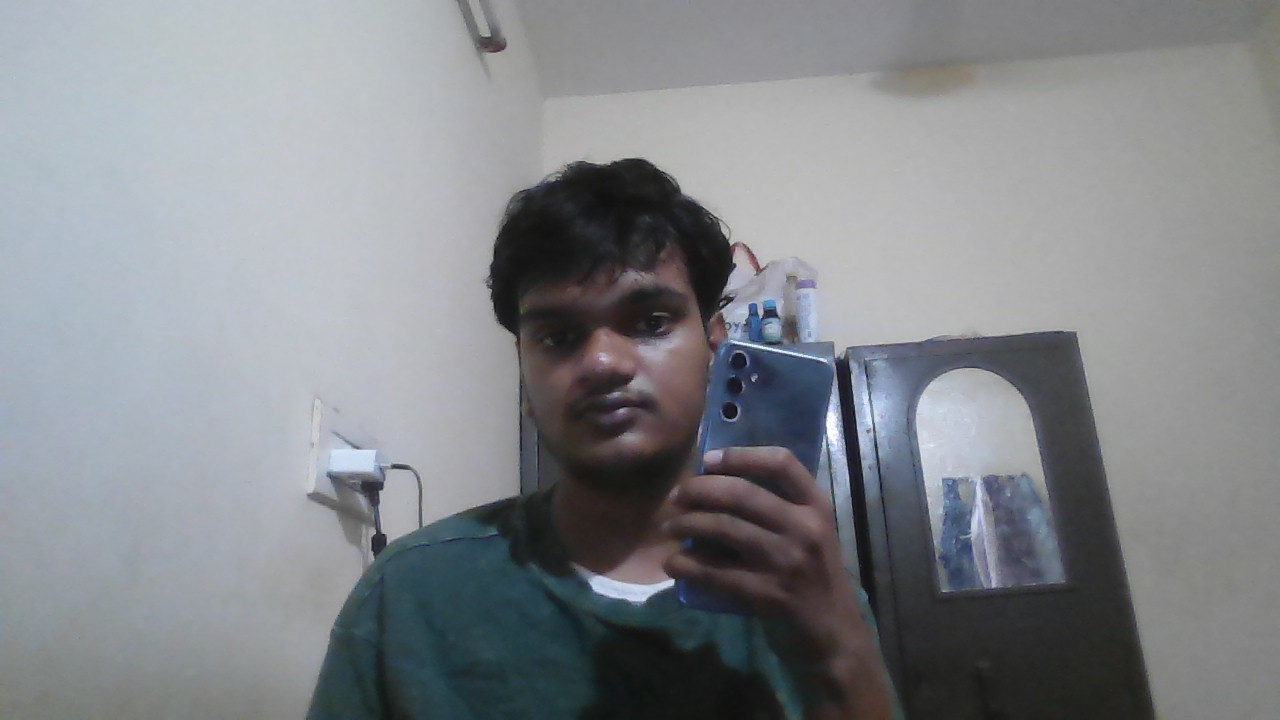phone: (710, 334, 831, 468)
